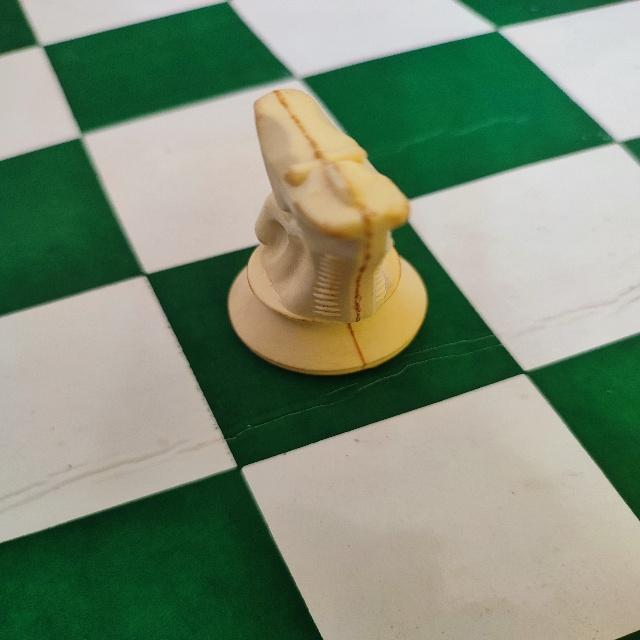Knight: (217, 80, 433, 383)
